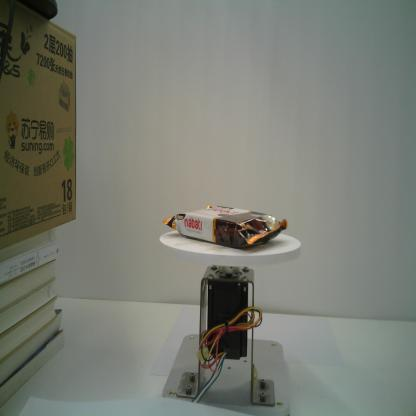Dessert: (160, 202, 288, 251)
